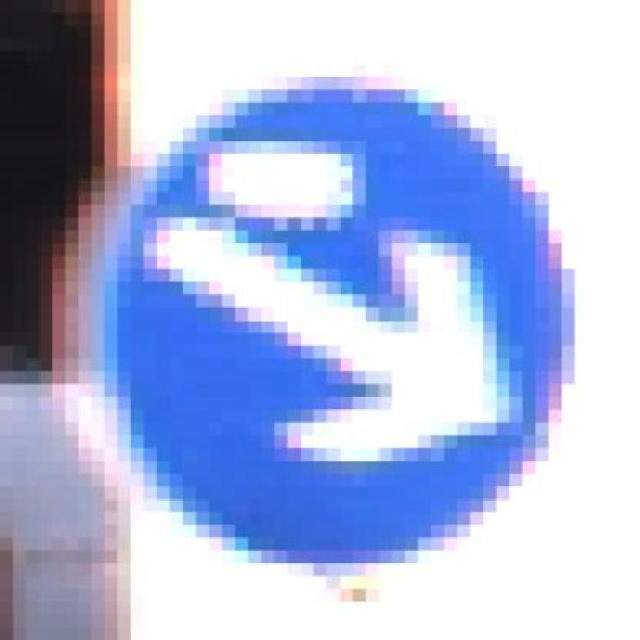Keep-Right: (65, 76, 601, 576)
